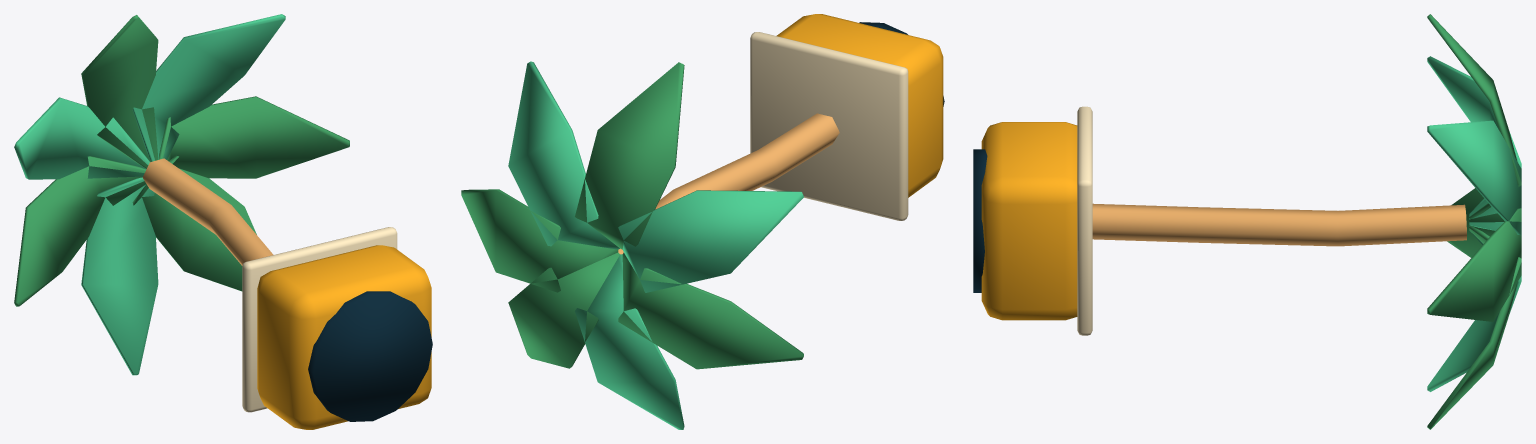
File: ArcadePalm.fbx
The picture shows the model from 3 angles, left to right: view 1: azimuth 30°, elevation 25°; view 2: azimuth 150°, elevation 25°; view 3: azimuth 270°, elevation 25°; orthographic projection. The views are drawn at different scales.
Visible parts, largest first — view 1: ArcadePalm; view 2: ArcadePalm; view 3: ArcadePalm.
Boxes of the visible parts, <box> form: ArcadePalm: <box>14,14,432,429</box>; ArcadePalm: <box>461,14,944,429</box>; ArcadePalm: <box>973,14,1521,429</box>.
Size of the model in its own units: 1.75 by 1.79 by 2.36.
